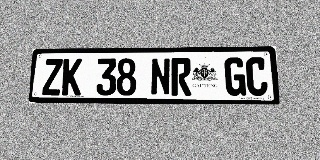3: (96, 58, 117, 96)
8: (116, 58, 137, 96)
C: (245, 57, 268, 96)
G: (224, 57, 246, 96)
K: (62, 59, 82, 95)
N: (150, 58, 170, 96)
R: (171, 58, 191, 96)
Z: (42, 59, 63, 95)
